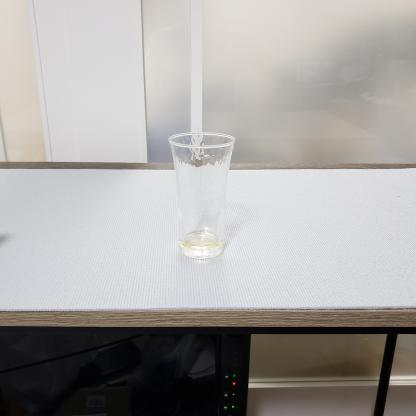glass: (165, 128, 252, 266)
